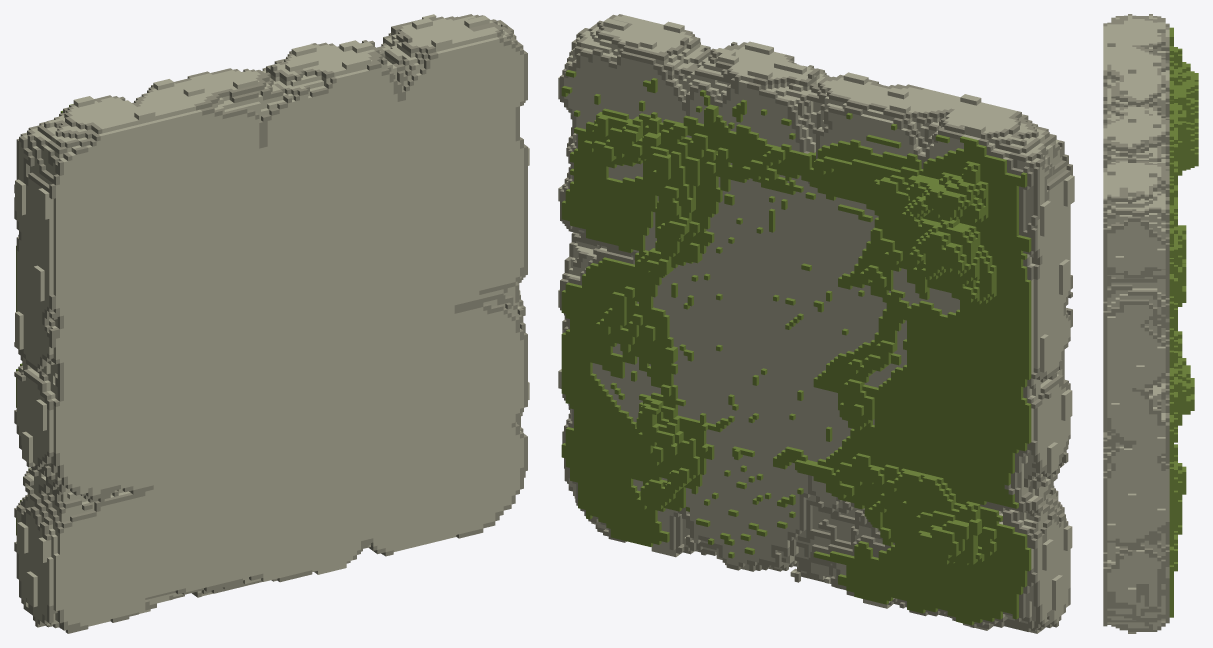
The model's file is forest1.4-7.obj.
3 views of the same model, side by side, from view 1: azimuth 30°, elevation 25°; view 2: azimuth 150°, elevation 25°; view 3: azimuth 270°, elevation 25° (orthographic). The views are drawn at different scales.
Size of the model in its own units: 11.9 by 11.8 by 2.3.
1 material, 1 textured.
